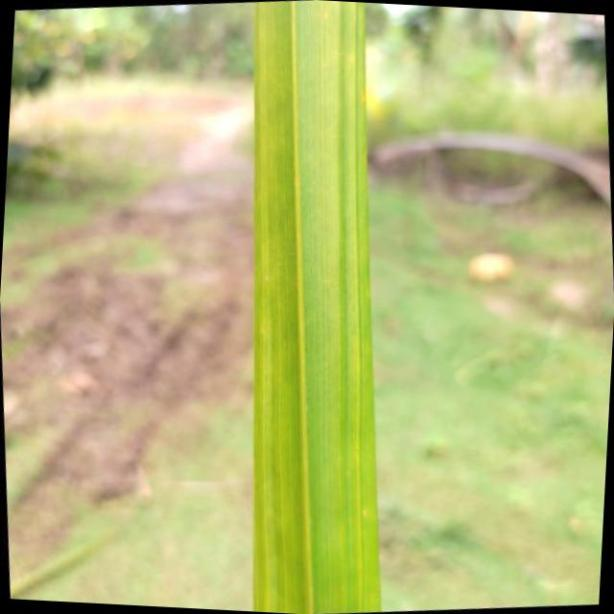nitrogen: (249, 0, 379, 614)
